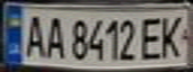1: (103, 16, 121, 62)
2: (118, 16, 139, 62)
4: (87, 16, 106, 61)
8: (66, 15, 90, 61)
A: (42, 12, 69, 60), (21, 12, 48, 59)
E: (136, 14, 166, 61)
K: (157, 11, 190, 60)
